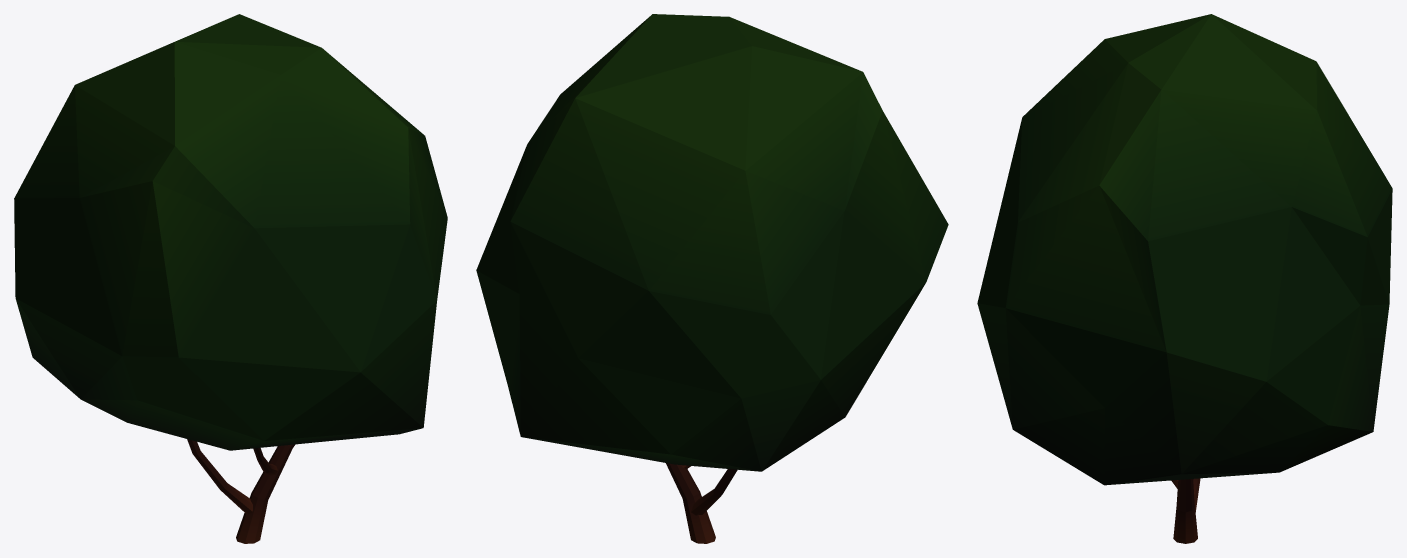
File: Bush 3.fbx
3 views of the same model, side by side, from view 1: azimuth 30°, elevation 25°; view 2: azimuth 150°, elevation 25°; view 3: azimuth 270°, elevation 25° (orthographic). The views are drawn at different scales.
Parts seen in each view (by area): view 1: Bush 3; view 2: Bush 3; view 3: Bush 3.
Boxes of the visible parts, box(x1,y1,x2,y2) form: Bush 3: box(14, 14, 447, 543); Bush 3: box(476, 14, 948, 543); Bush 3: box(977, 14, 1392, 543).
Size of the model in its own units: 119 by 157 by 119.
